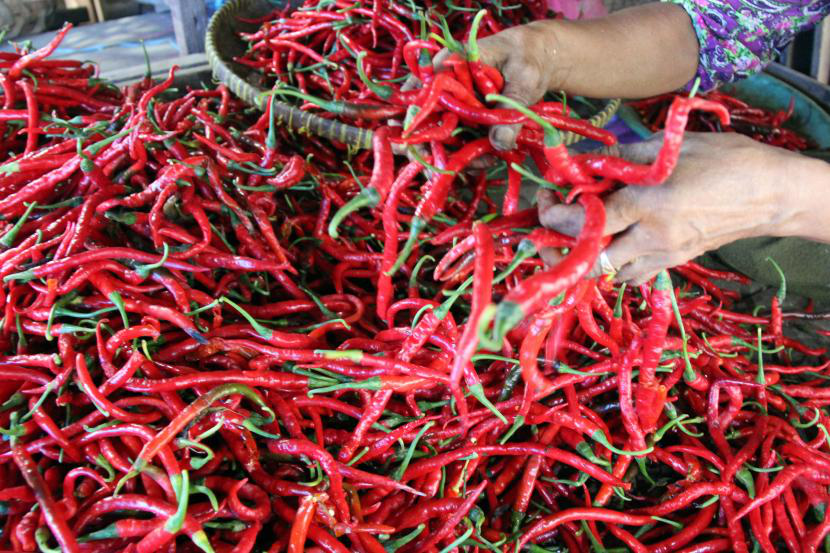Cabai: (155, 150, 452, 501)
